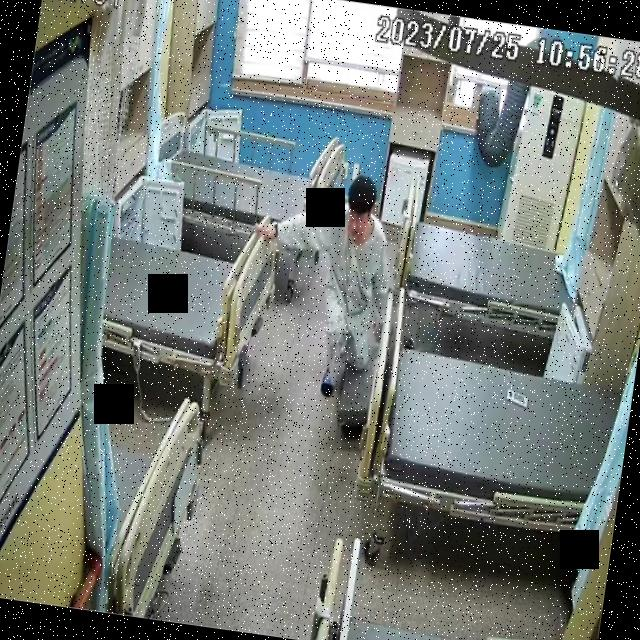bed: (371, 338, 627, 542), (93, 194, 288, 392), (146, 110, 346, 256), (390, 194, 586, 340)
fall: (235, 163, 406, 402)
patient: (234, 162, 406, 404)
